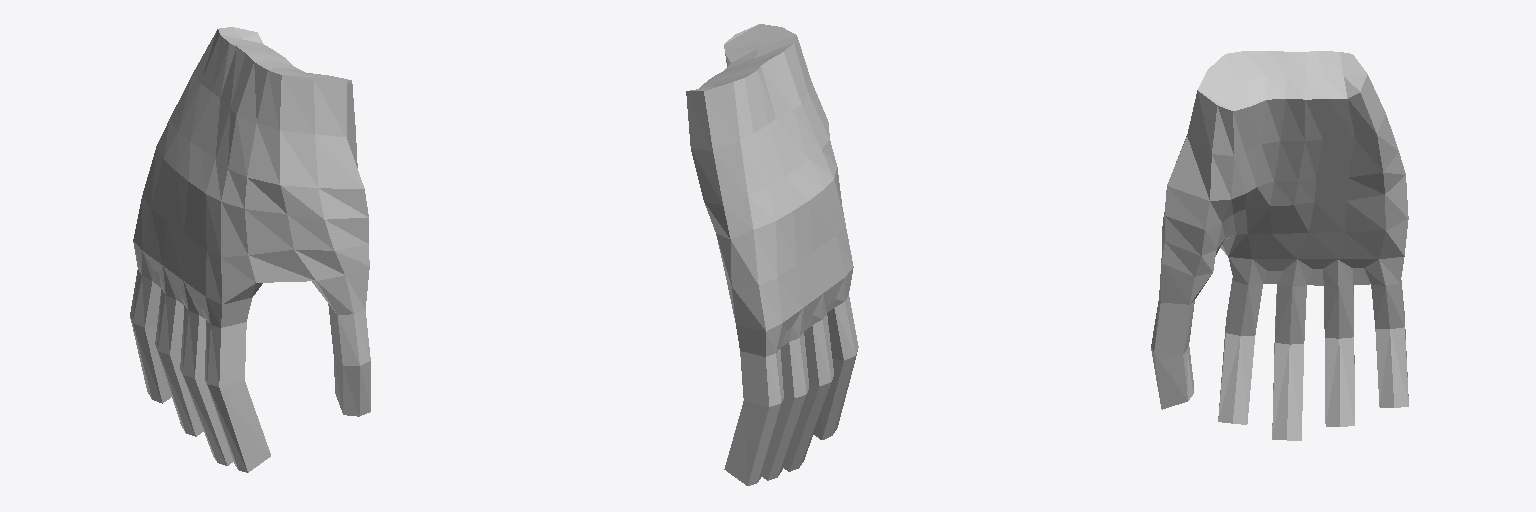
File: mano derecha.obj
The picture shows the model from 3 angles: view 1: azimuth 30°, elevation 25°; view 2: azimuth 150°, elevation 25°; view 3: azimuth 270°, elevation 25°; orthographic projection.
Parts seen in each view (by area): view 1: polySurface2 pCube8; view 2: polySurface2 pCube8; view 3: polySurface2 pCube8.
Boxes of the visible parts, x1,y1,x2,y2 form: polySurface2 pCube8: [130, 27, 370, 472]; polySurface2 pCube8: [686, 24, 858, 485]; polySurface2 pCube8: [1151, 51, 1408, 440].
Bounding box in the file's own units: 6.59 × 18.52 × 10.76.